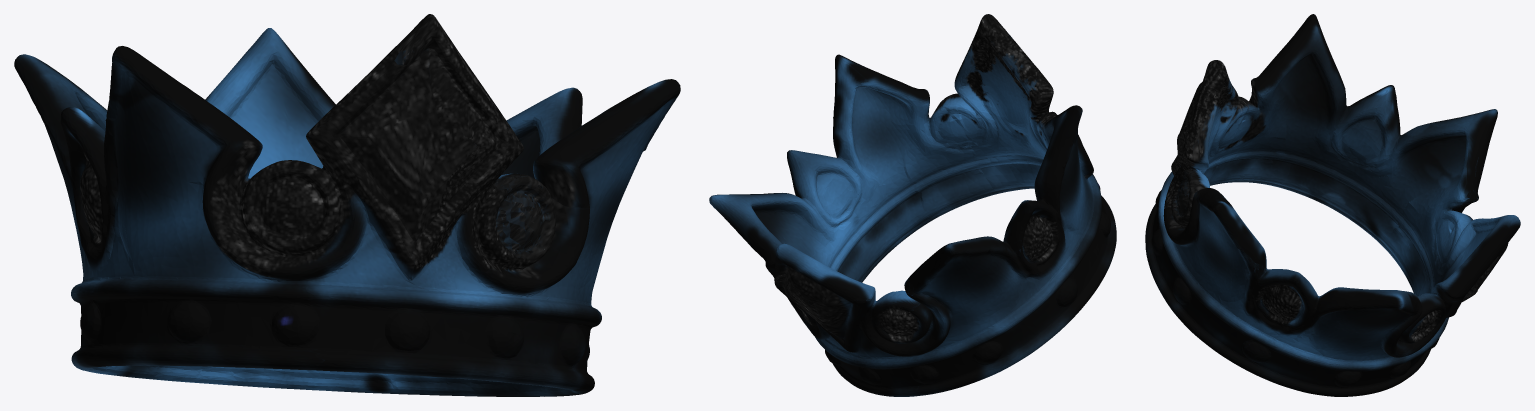
File: crown-Blue2.glb
The picture shows the model from 3 angles, left to right: view 1: azimuth 30°, elevation 25°; view 2: azimuth 150°, elevation 25°; view 3: azimuth 270°, elevation 25°; orthographic projection. The views are drawn at different scales.
Visible parts, largest first — view 1: node_id5; view 2: node_id5; view 3: node_id5.
Part boxes in pixels (box(x1,y1,x2,y2)): node_id5: box(14, 14, 680, 396); node_id5: box(709, 14, 1116, 396); node_id5: box(1145, 14, 1520, 396).
Size of the model in its own units: 0.3995 by 0.3463 by 0.3919.
Materials: 1 (1 with a texture image).
